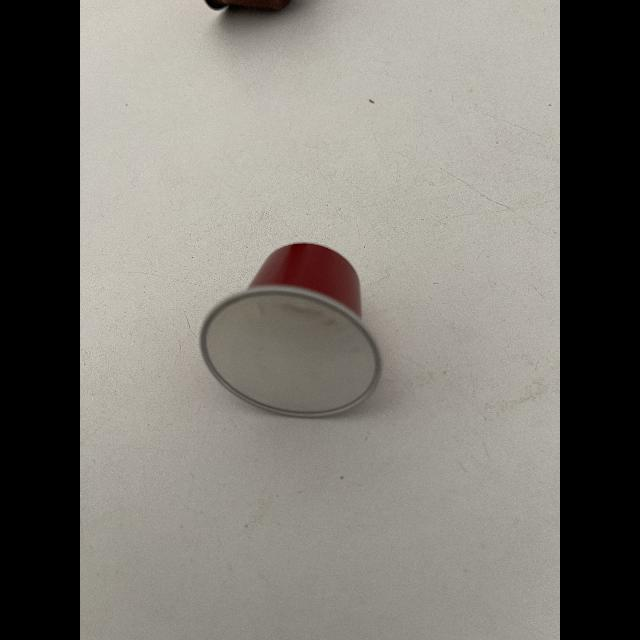intact_capsule: (196, 228, 407, 428)
